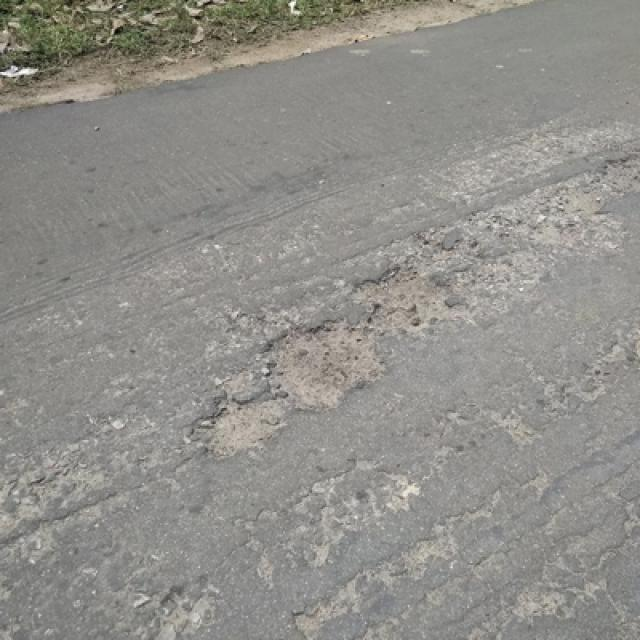pothole: (514, 150, 640, 249), (259, 320, 387, 413), (350, 261, 456, 340), (192, 396, 283, 466)
